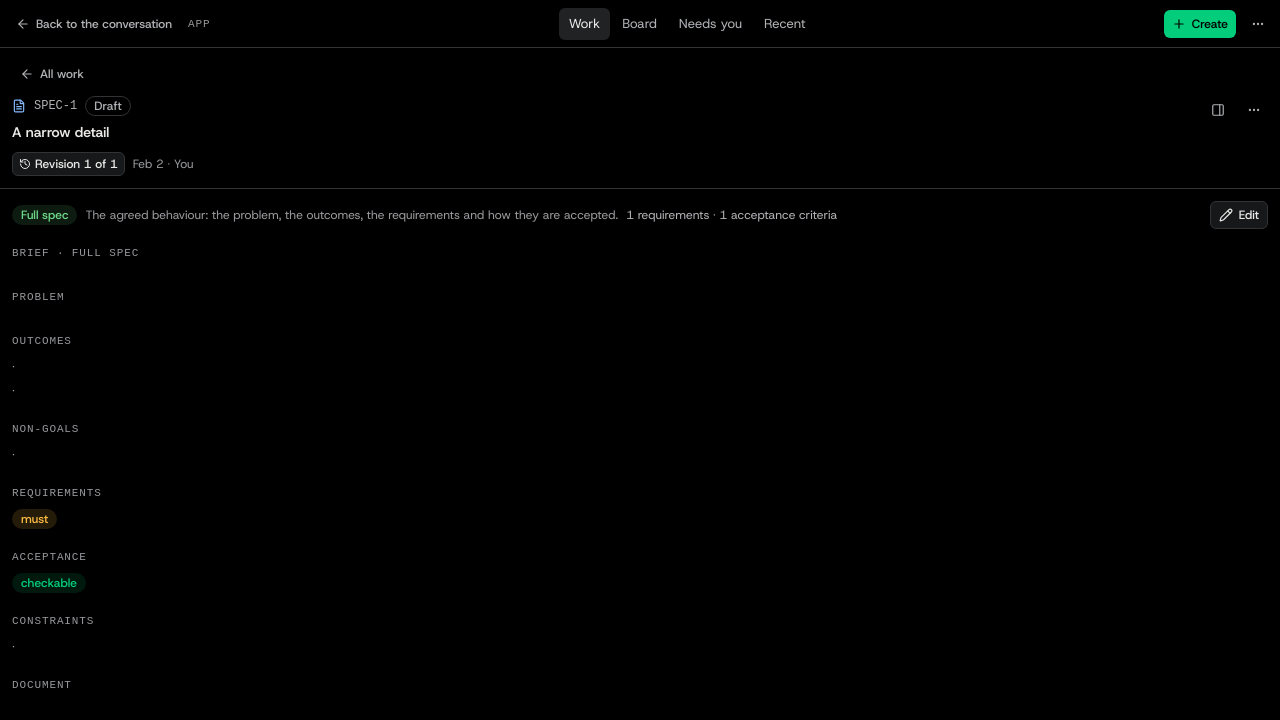
it: opens the existing Inspector as a sheet from a narrow opened detail
Click the button named "Details and review" at (1218, 110), box [1204,96,1232,124]
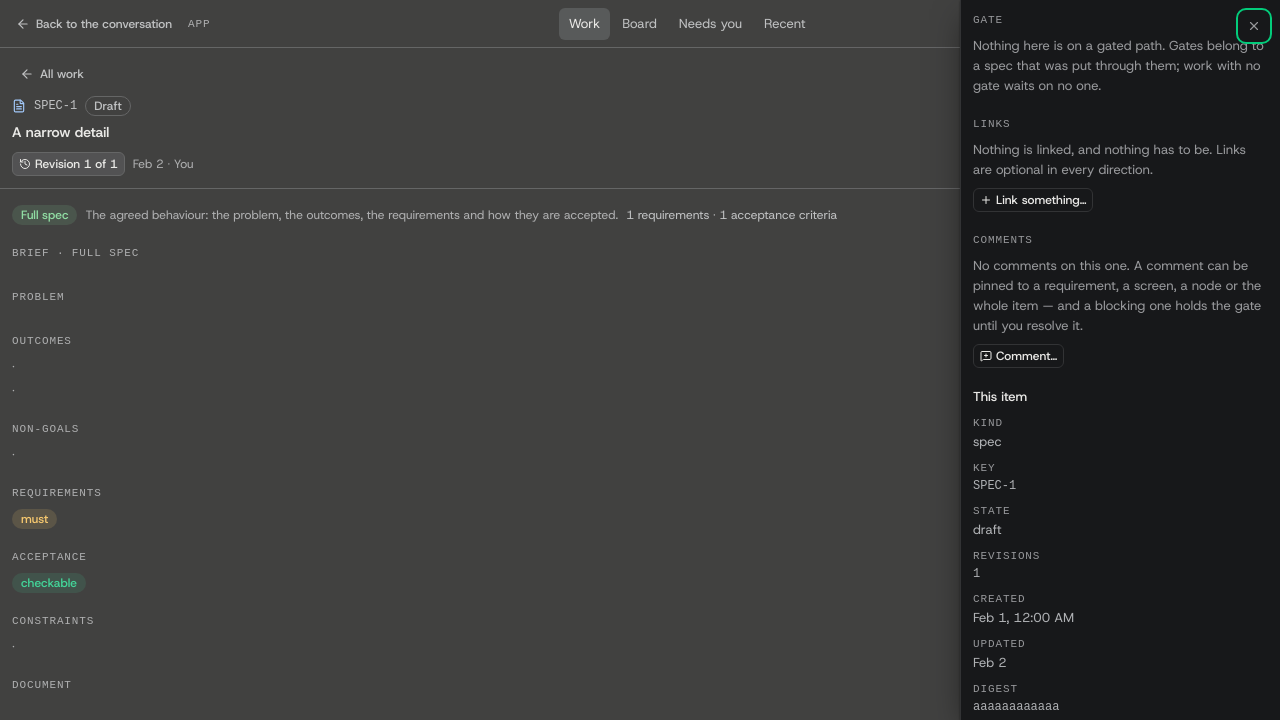
Expected: the dialog is shown, [960,0,1279,719]
Expected: the element that starts with "Gate" is shown, [961,0,1279,719]
Expected: the dialog shows "This item", [973,388,1027,405]
